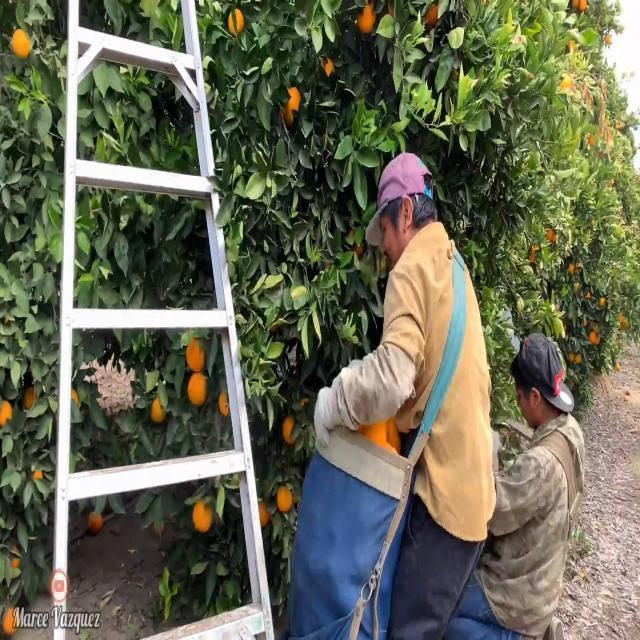Jeruk Sudah Matang: (282, 85, 302, 128), (185, 340, 210, 372), (356, 0, 380, 33), (421, 1, 447, 29), (10, 27, 32, 60), (187, 373, 209, 405), (193, 502, 214, 534), (227, 8, 245, 36), (151, 396, 169, 424), (0, 396, 14, 432), (277, 486, 294, 514), (216, 388, 232, 417), (318, 54, 334, 81), (282, 416, 296, 444), (258, 501, 270, 528)
